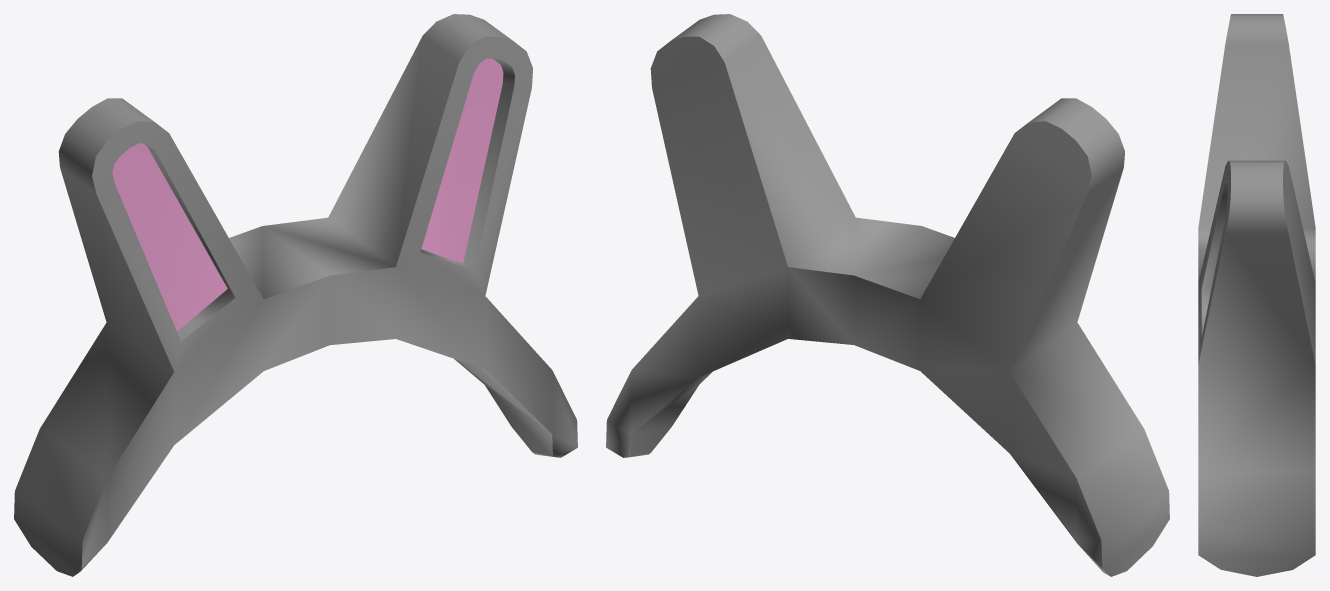
Rendered from Hat_Bunny.fbx.
3 views of the same model, side by side, from view 1: azimuth 30°, elevation 25°; view 2: azimuth 150°, elevation 25°; view 3: azimuth 270°, elevation 25° (orthographic). The views are drawn at different scales.
Parts seen in each view (by area): view 1: Bunny; view 2: Bunny; view 3: Bunny.
Boxes of the visible parts, bbox=[...] form: Bunny: bbox=[14, 14, 577, 576]; Bunny: bbox=[606, 14, 1169, 576]; Bunny: bbox=[1198, 14, 1315, 576].
Bounding box in the file's own units: 101 × 86.7 × 23.89.
